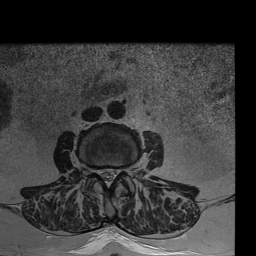CCS_normal: (104, 160, 111, 193)
LFS_severe_stenosis: (118, 158, 126, 180)
LLS_stenosis: (111, 159, 119, 185)
RFS_severe_stenosis: (89, 157, 96, 180)
RLS_normal: (96, 159, 104, 183)
